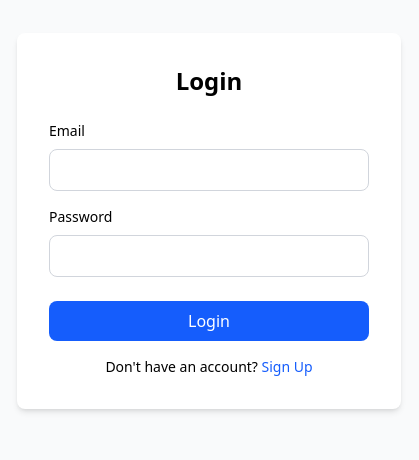
Test: Login Page › shows error message on failed login
The width and height of the screenshot is (419, 460).
In the field labelled "Email": {"x": 209, "y": 170} [49,149,369,191], type "wrong@example.com"
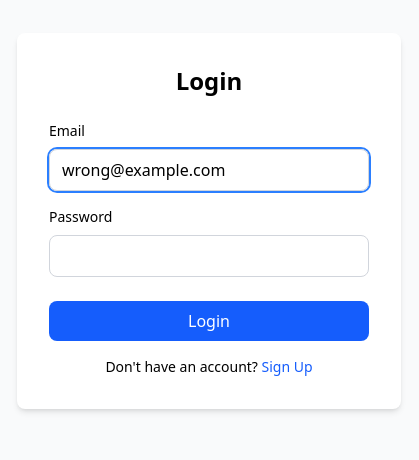
In the password field labelled "Password": {"x": 209, "y": 256} [49,235,369,277], type "wrongpassword"
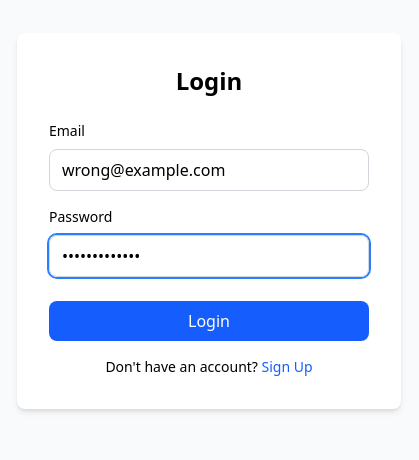
Click the button "Login": {"x": 209, "y": 321} [49,301,369,341]
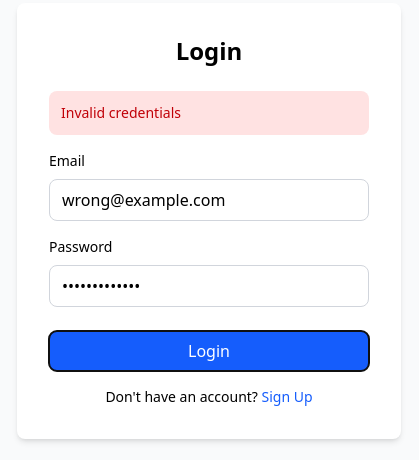
Now the text "Invalid credentials" is shown, box [49,91,369,135]
